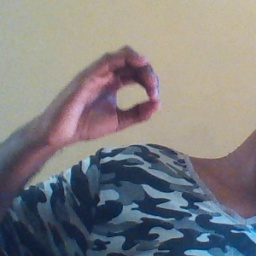O: (45, 40, 162, 142)
